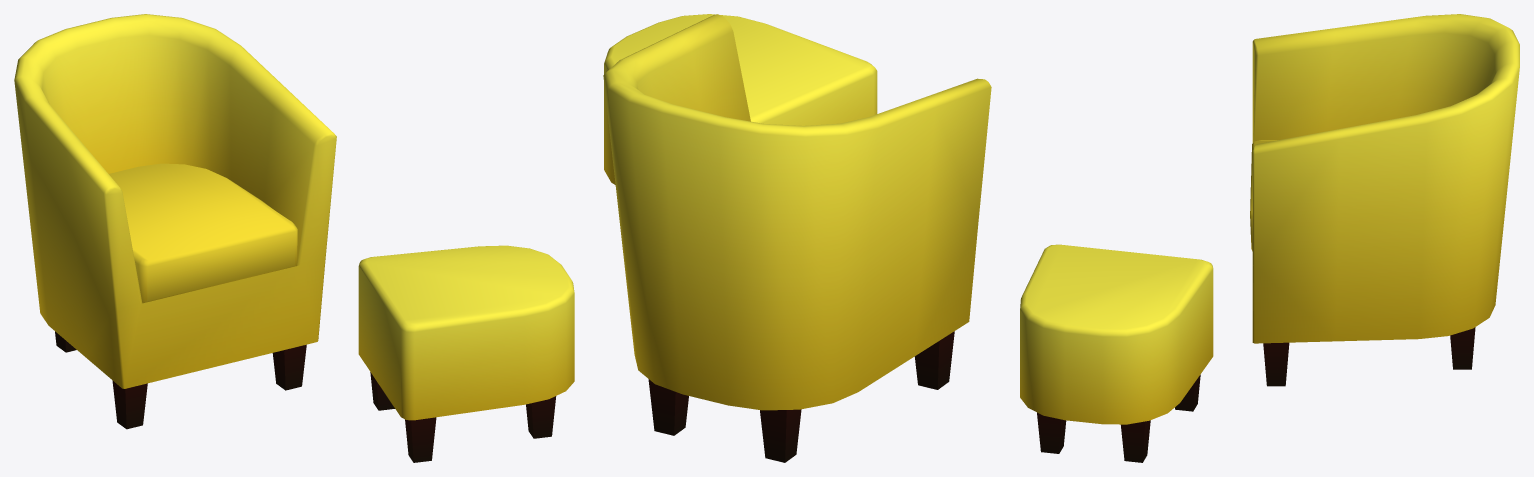
File: sofachair.glb
3 views of the same model, side by side, from view 1: azimuth 30°, elevation 25°; view 2: azimuth 150°, elevation 25°; view 3: azimuth 270°, elevation 25° (orthographic). The views are drawn at different scales.
Visible parts, largest first — view 1: Cube.001, Cube.006; view 2: Cube.001, Cube.006; view 3: Cube.001, Cube.006.
Boxes of the visible parts, x1,y1,x2,y2 form: Cube.001: (14, 14, 336, 429); Cube.006: (358, 245, 574, 462); Cube.001: (603, 14, 991, 462); Cube.006: (604, 14, 877, 184); Cube.001: (1250, 14, 1519, 386); Cube.006: (1020, 244, 1213, 462).
Bounding box in the file's own units: 327 × 239 × 372.
Materials: 1 (1 with a texture image).
